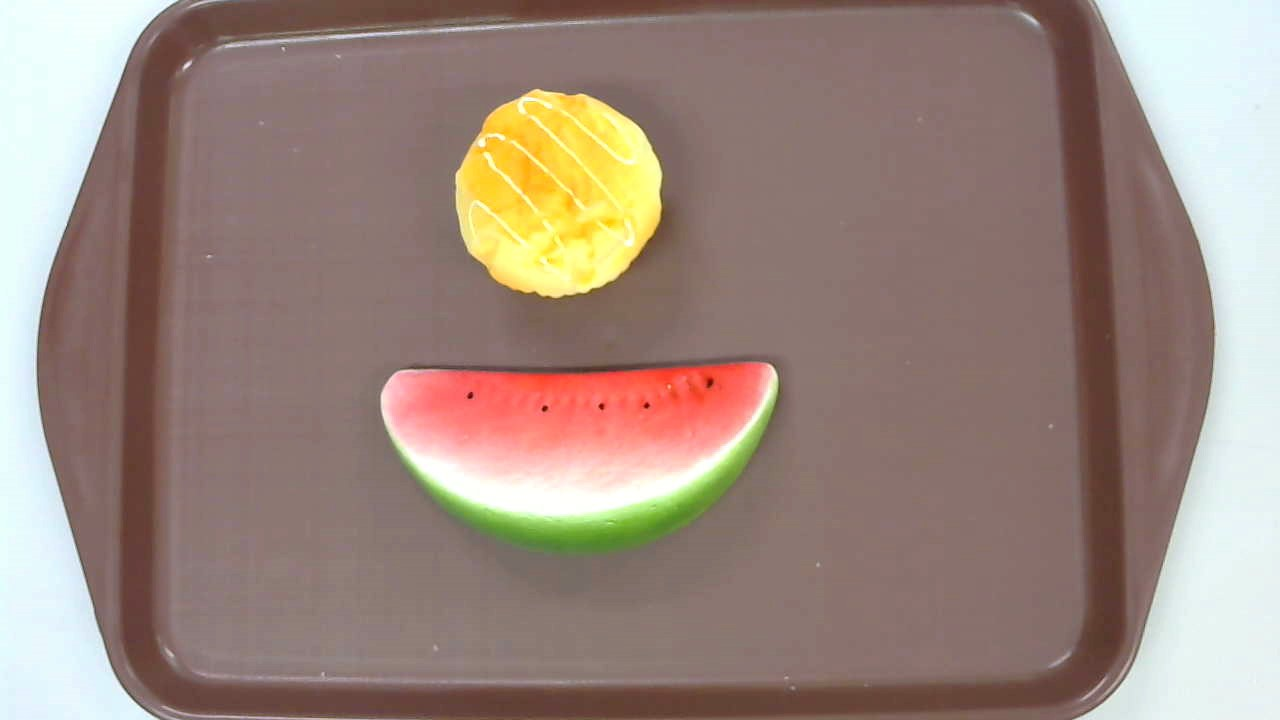cupcake: (453, 89, 663, 299)
water melon: (378, 361, 779, 561)
